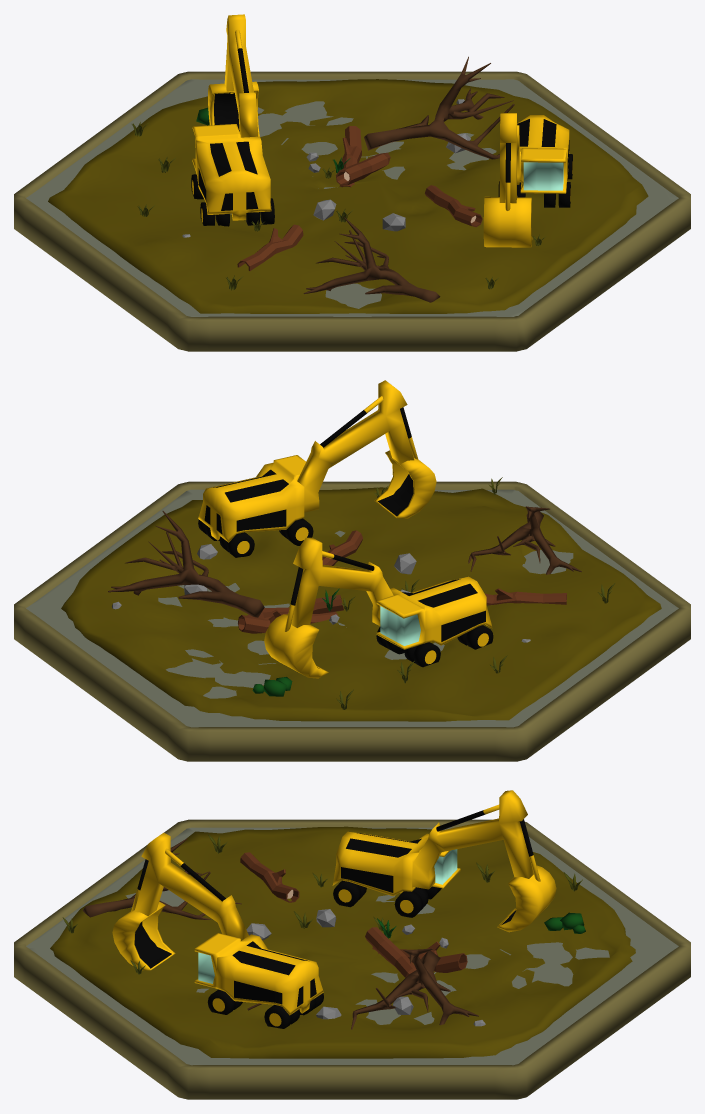
The model's file is Wetland_Restoration_Tile.fbx.
3 views of the same model, one above another, from view 1: azimuth 30°, elevation 25°; view 2: azimuth 150°, elevation 25°; view 3: azimuth 270°, elevation 25° (orthographic).
Visible parts, largest first — view 1: Cylinder.002, Cylinder.003; view 2: Cylinder.002, Cylinder.003; view 3: Cylinder.002, Cylinder.003.
Boxes of the visible parts, left/top/right/bottom form: Cylinder.002: left=26, top=14, right=678, bottom=316; Cylinder.003: left=14, top=71, right=690, bottom=351; Cylinder.002: left=26, top=380, right=678, bottom=727; Cylinder.003: left=14, top=481, right=690, bottom=761; Cylinder.002: left=26, top=790, right=678, bottom=1065; Cylinder.003: left=14, top=819, right=690, bottom=1099.
Bounding box in the file's own units: 100 × 31.36 × 114.
